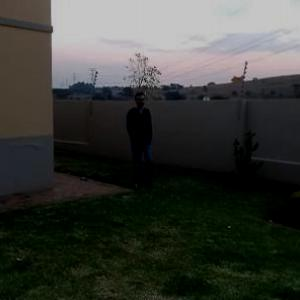follow: (123, 89, 156, 188)
